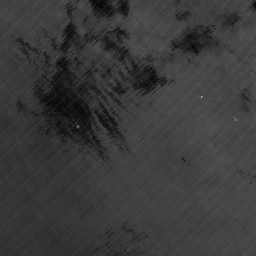Target: (74, 123, 81, 130)
